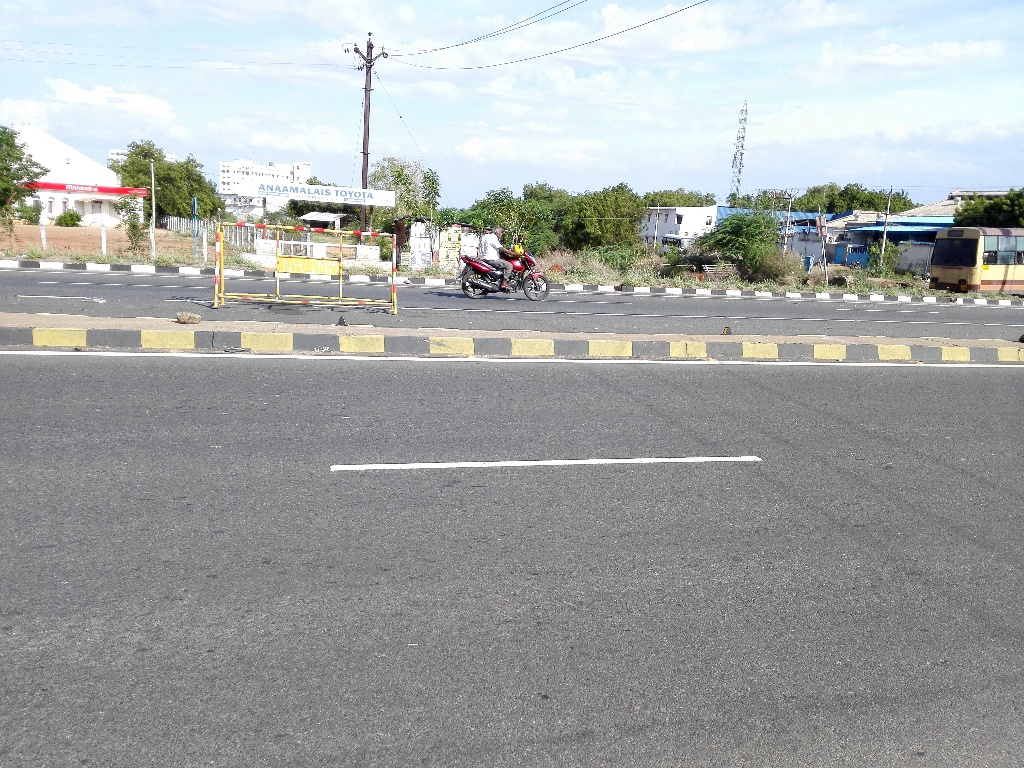biker: (447, 199, 563, 309)
nohelmet: (487, 217, 508, 245)
